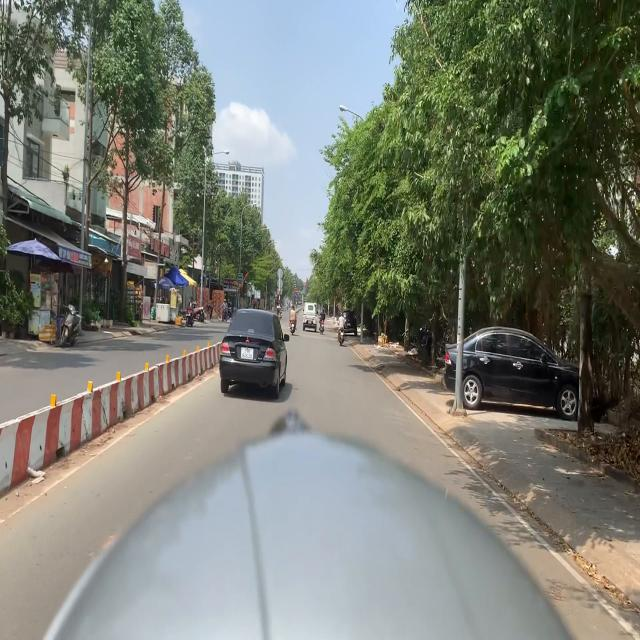Cam nguoc chieu: (295, 289, 298, 293)
Hieu lenh: (295, 293, 298, 298)
